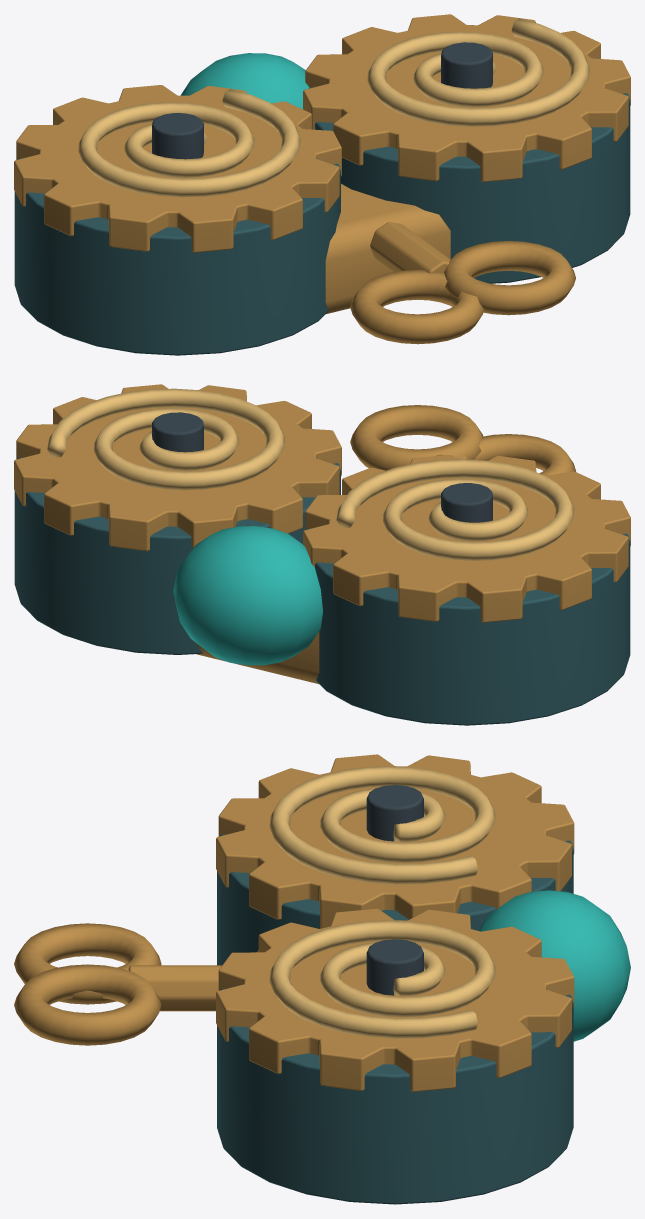
The model's file is self_replicating_spring.glb.
3 views of the same model, one above another, from view 1: azimuth 30°, elevation 25°; view 2: azimuth 150°, elevation 25°; view 3: azimuth 270°, elevation 25° (orthographic). The views are drawn at different scales.
Visible parts, largest first — view 1: SM_self_replicating_spring; view 2: SM_self_replicating_spring; view 3: SM_self_replicating_spring.
Boxes of the visible parts, x1=… form: SM_self_replicating_spring: x1=14, y1=14, x2=630, y2=355; SM_self_replicating_spring: x1=14, y1=384, x2=630, y2=725; SM_self_replicating_spring: x1=14, y1=754, x2=630, y2=1204.
Size of the model in its own units: 0.3528 by 0.102 by 0.301.
